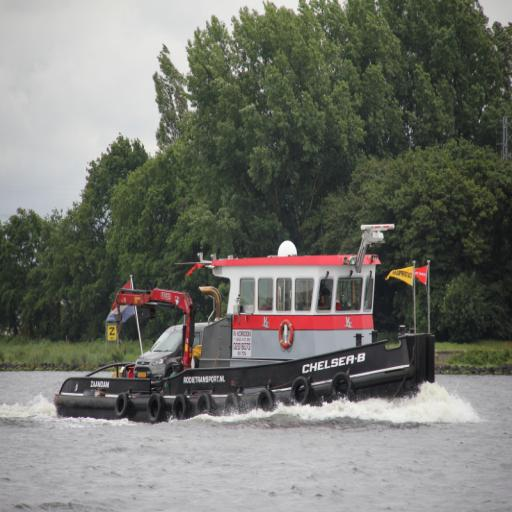tugboat: (51, 221, 440, 433)
